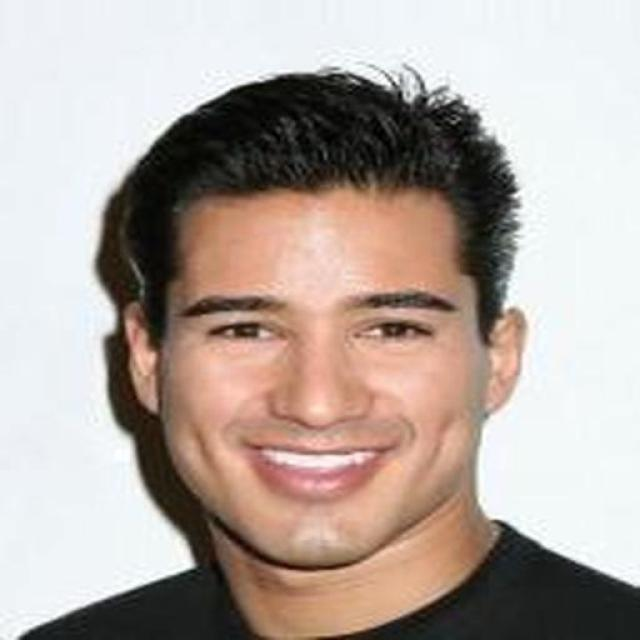bareface: (132, 137, 512, 567)
